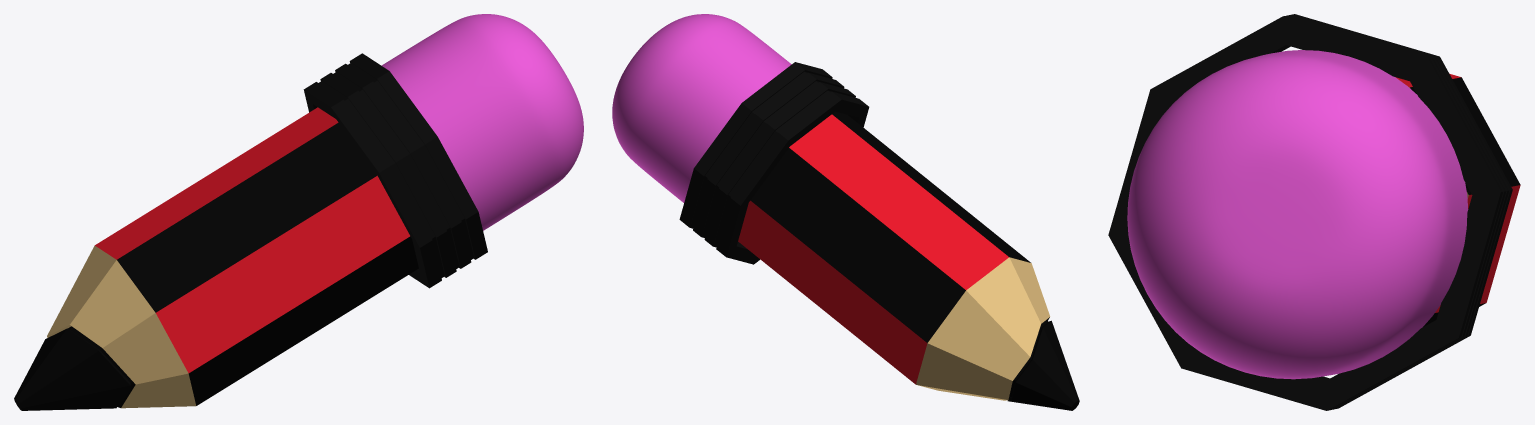
Rendered from penillowoly.fbx.
3 renders of one model, left to right at view 1: azimuth 30°, elevation 25°; view 2: azimuth 150°, elevation 25°; view 3: azimuth 270°, elevation 25°, orthographic. The views are drawn at different scales.
Visible parts, largest first — view 1: Cylinder.001, Cylinder.003, Cylinder.002; view 2: Cylinder.001, Cylinder.003, Cylinder.002; view 3: Cylinder.003, Cylinder.002, Cylinder.001.
Part boxes in pixels (bbox=[...]): Cylinder.001: bbox=[14, 107, 418, 410]; Cylinder.003: bbox=[381, 14, 583, 230]; Cylinder.002: bbox=[303, 53, 487, 288]; Cylinder.001: bbox=[738, 111, 1079, 410]; Cylinder.003: bbox=[612, 14, 791, 202]; Cylinder.002: bbox=[679, 62, 869, 264]; Cylinder.003: bbox=[1127, 50, 1468, 379]; Cylinder.002: bbox=[1108, 14, 1512, 410]; Cylinder.001: bbox=[1395, 73, 1520, 326].
Size of the model in its own units: 636 by 367 by 257.
